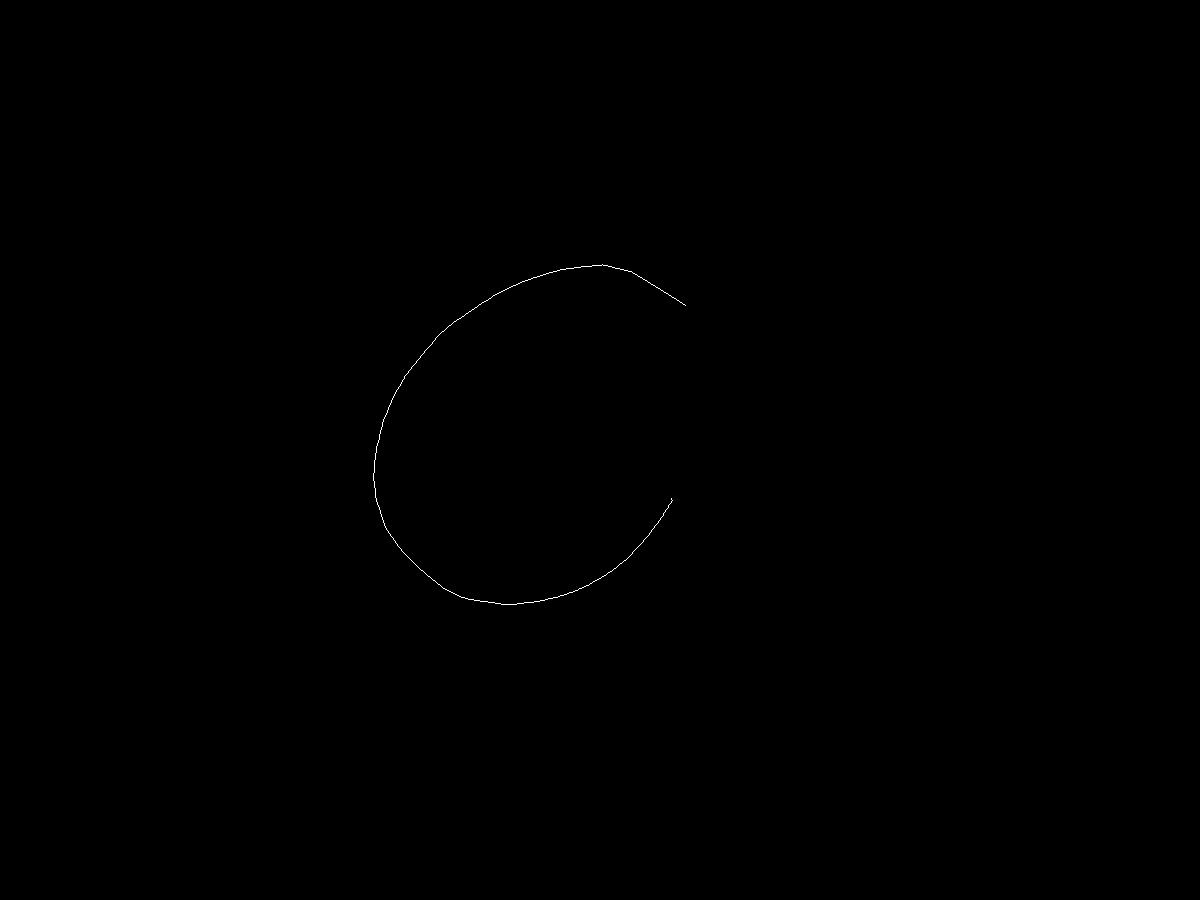dian1: (672, 295, 691, 313)
dian2: (662, 495, 684, 513)
